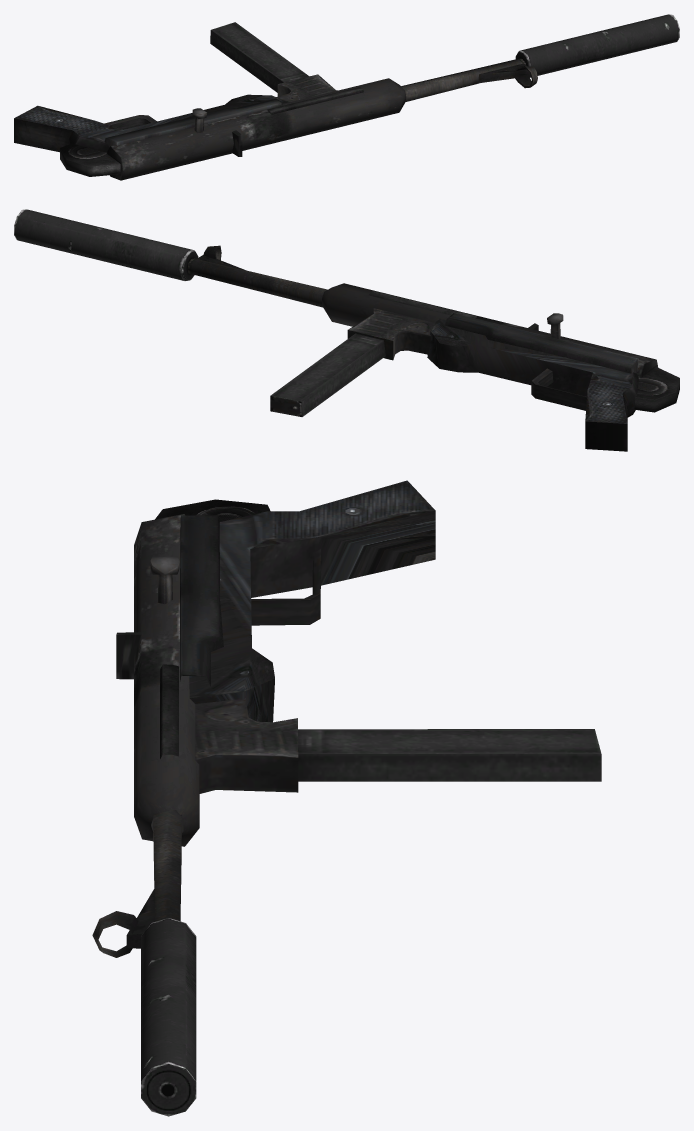
The model's file is weapon_ger_mp40_smg_silent_LOD11.obj.
3 views of the same model, one above another, from view 1: azimuth 30°, elevation 25°; view 2: azimuth 150°, elevation 25°; view 3: azimuth 270°, elevation 25° (orthographic). The views are drawn at different scales.
Visible parts, largest first — view 1: TomGroup_0, TomGroup_1; view 2: TomGroup_0, TomGroup_1; view 3: TomGroup_0, TomGroup_1.
Part boxes in pixels (box(x1,y1,x2,y2)): TomGroup_0: box(14, 22, 537, 180); TomGroup_1: box(515, 14, 679, 77); TomGroup_0: box(188, 245, 679, 451); TomGroup_1: box(14, 209, 198, 280); TomGroup_0: box(92, 480, 601, 957); TomGroup_1: box(141, 918, 196, 1116).
Bounding box in the file's own units: 81.09 × 6.29 × 29.82.
2 materials, 2 textured.
